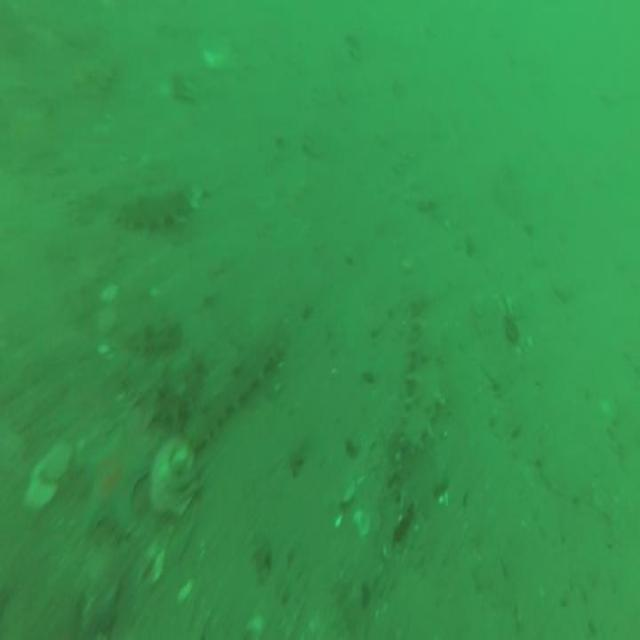holothurian: (191, 330, 282, 449), (406, 291, 446, 450), (129, 365, 202, 431), (120, 182, 189, 234), (122, 316, 176, 356)
scallop: (29, 455, 62, 507), (99, 282, 118, 300)
starfish: (82, 438, 151, 539)
